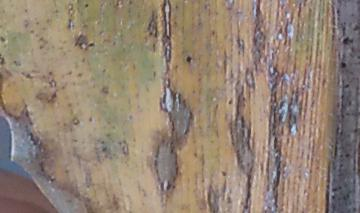tarspot: (46, 90, 58, 106), (356, 141, 360, 175), (341, 35, 353, 46), (65, 17, 76, 29), (332, 144, 339, 157), (352, 23, 360, 34), (340, 92, 345, 109), (151, 41, 157, 55), (339, 60, 347, 70), (185, 54, 192, 65), (86, 41, 95, 49), (330, 193, 337, 202), (346, 98, 353, 107), (87, 115, 94, 124), (22, 6, 29, 15), (1, 53, 6, 65), (227, 97, 233, 107), (341, 25, 347, 35), (220, 169, 227, 177), (210, 28, 217, 36), (1, 35, 7, 44), (343, 83, 350, 90), (331, 186, 337, 194), (336, 182, 342, 190), (173, 2, 179, 10), (83, 3, 90, 9), (344, 152, 350, 159), (335, 7, 341, 14), (352, 127, 358, 134), (345, 192, 350, 199), (339, 162, 344, 168), (127, 1, 132, 6)
